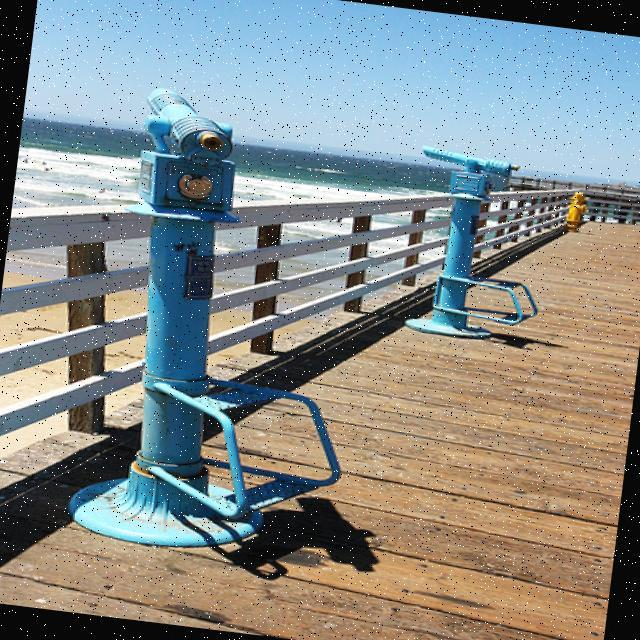fire_hydrant: (562, 190, 588, 232)
